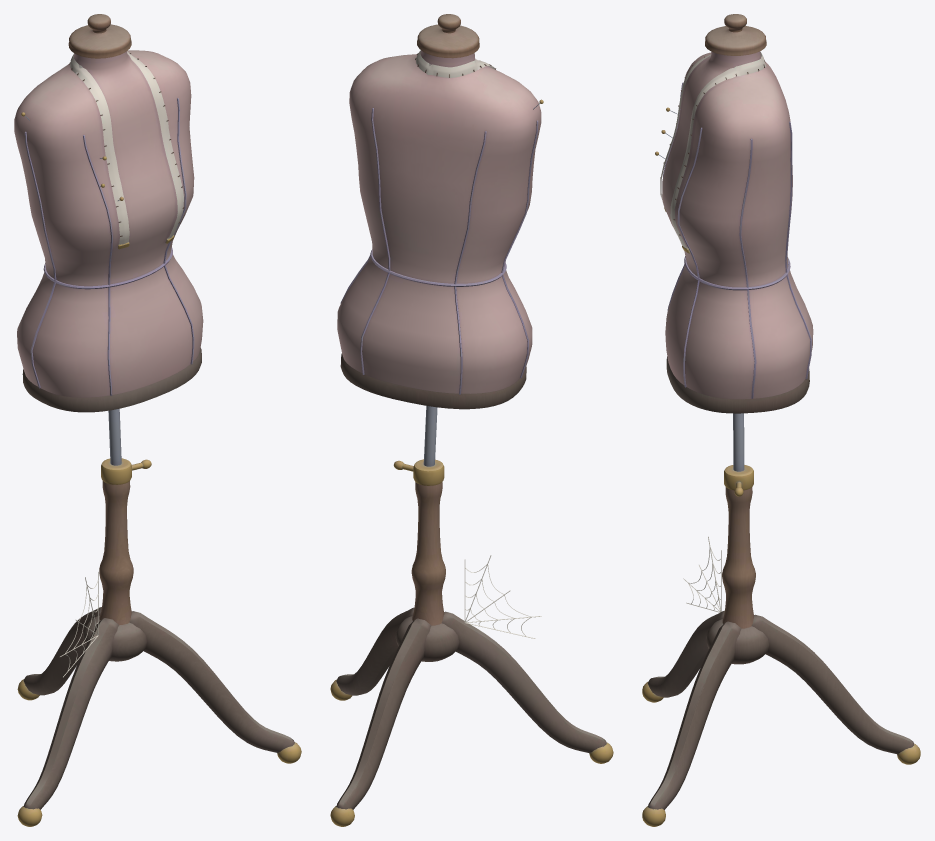
The model's file is dress-form-mannequin.glb.
3 renders of one model, left to right at view 1: azimuth 30°, elevation 25°; view 2: azimuth 150°, elevation 25°; view 3: azimuth 270°, elevation 25°, orthographic.
Parts seen in each view (by area): view 1: dress-form-mannequin_body, dress-form-mannequin_web; view 2: dress-form-mannequin_body, dress-form-mannequin_web; view 3: dress-form-mannequin_body, dress-form-mannequin_web.
Part boxes in pixels (bbox=[...]): dress-form-mannequin_body: bbox=[14, 14, 301, 826]; dress-form-mannequin_web: bbox=[60, 571, 98, 677]; dress-form-mannequin_body: bbox=[330, 14, 613, 826]; dress-form-mannequin_web: bbox=[464, 555, 541, 638]; dress-form-mannequin_body: bbox=[642, 14, 920, 826]; dress-form-mannequin_web: bbox=[683, 536, 721, 612].
Bounding box in the file's own units: 0.6282 × 1.61 × 0.5493.
2 materials, 1 textured.
